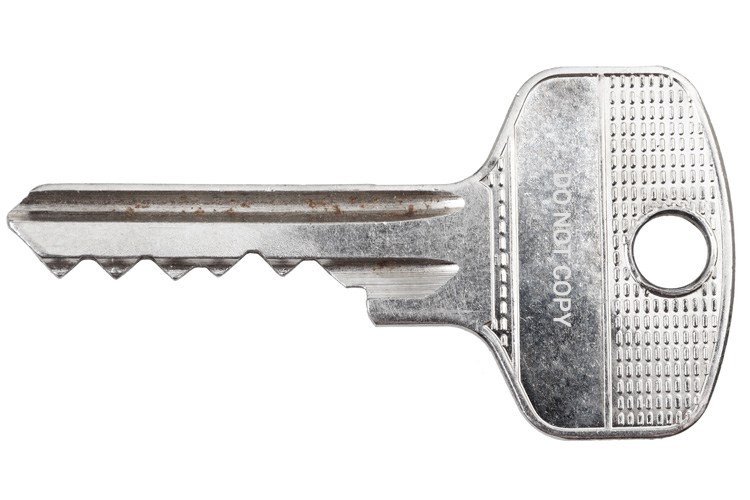key: (16, 69, 738, 449)
